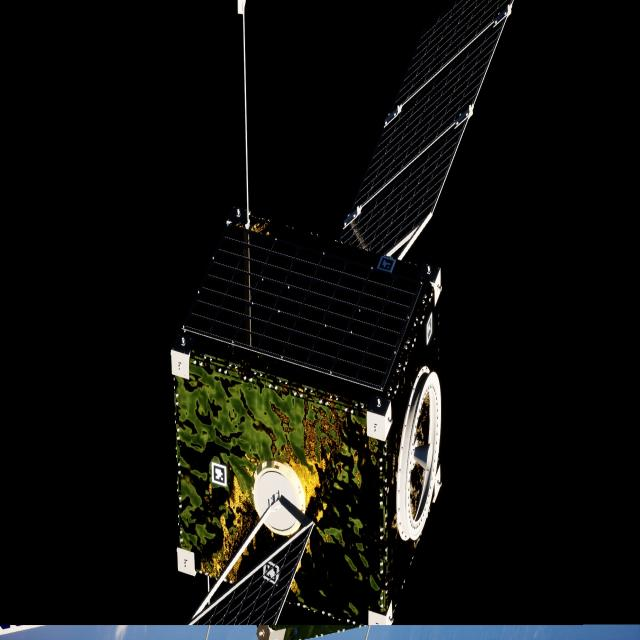medium_debris: (174, 0, 515, 640)
